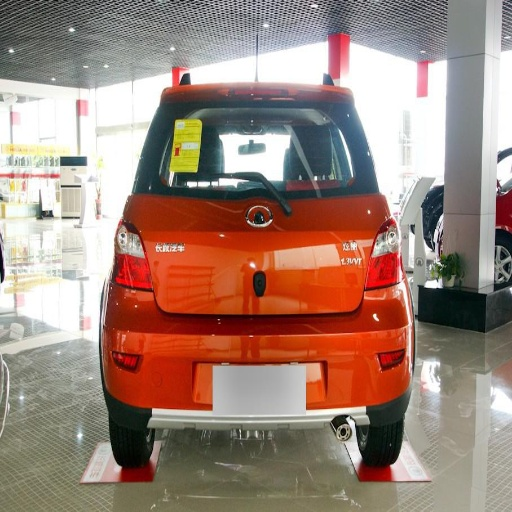back_bumper: (105, 285, 408, 434)
trunk: (139, 197, 390, 361)
